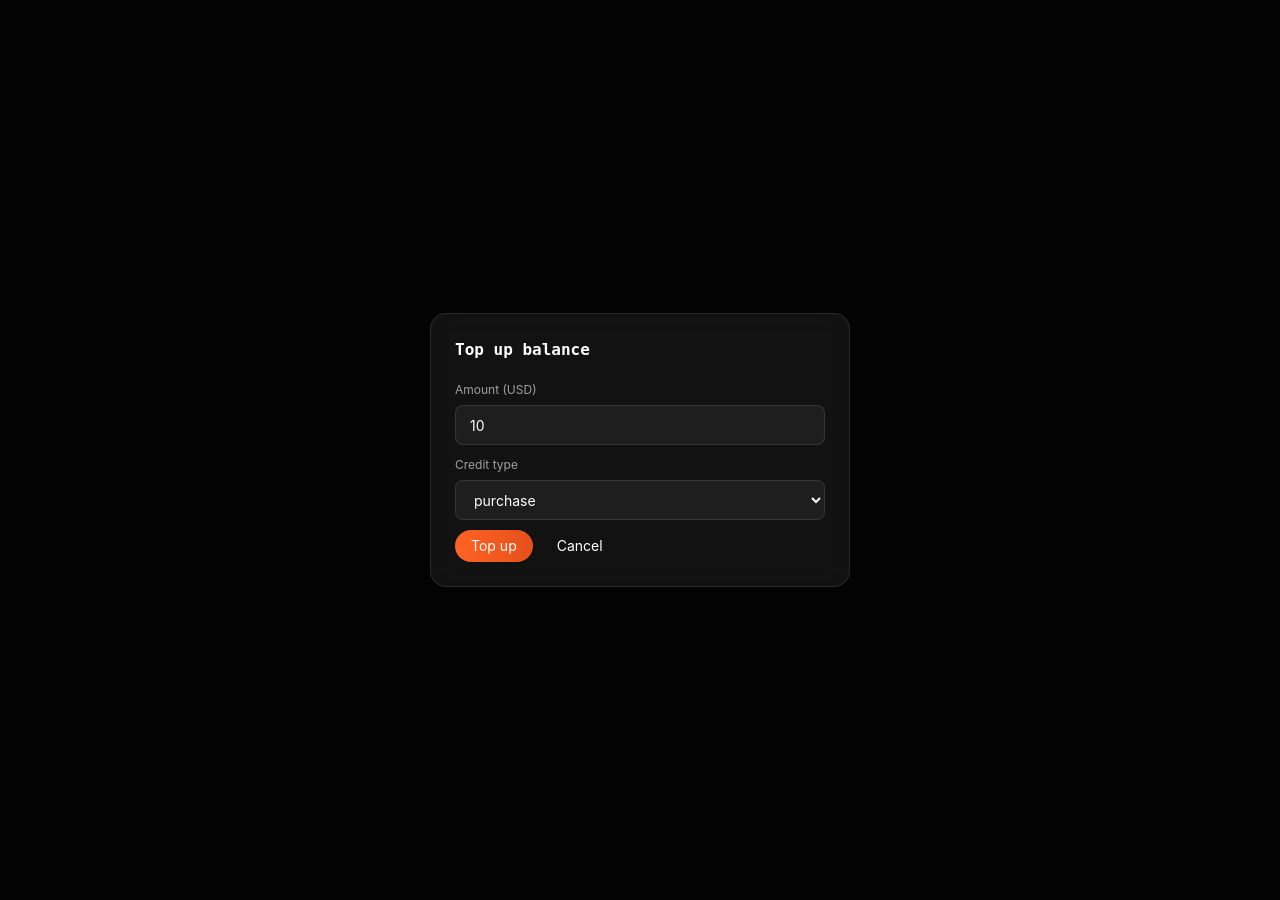
Test: TopUpDialog › renders the error envelope on a rejection
Click the button "Top up". click: (494, 546)
box: [455,530,533,562]
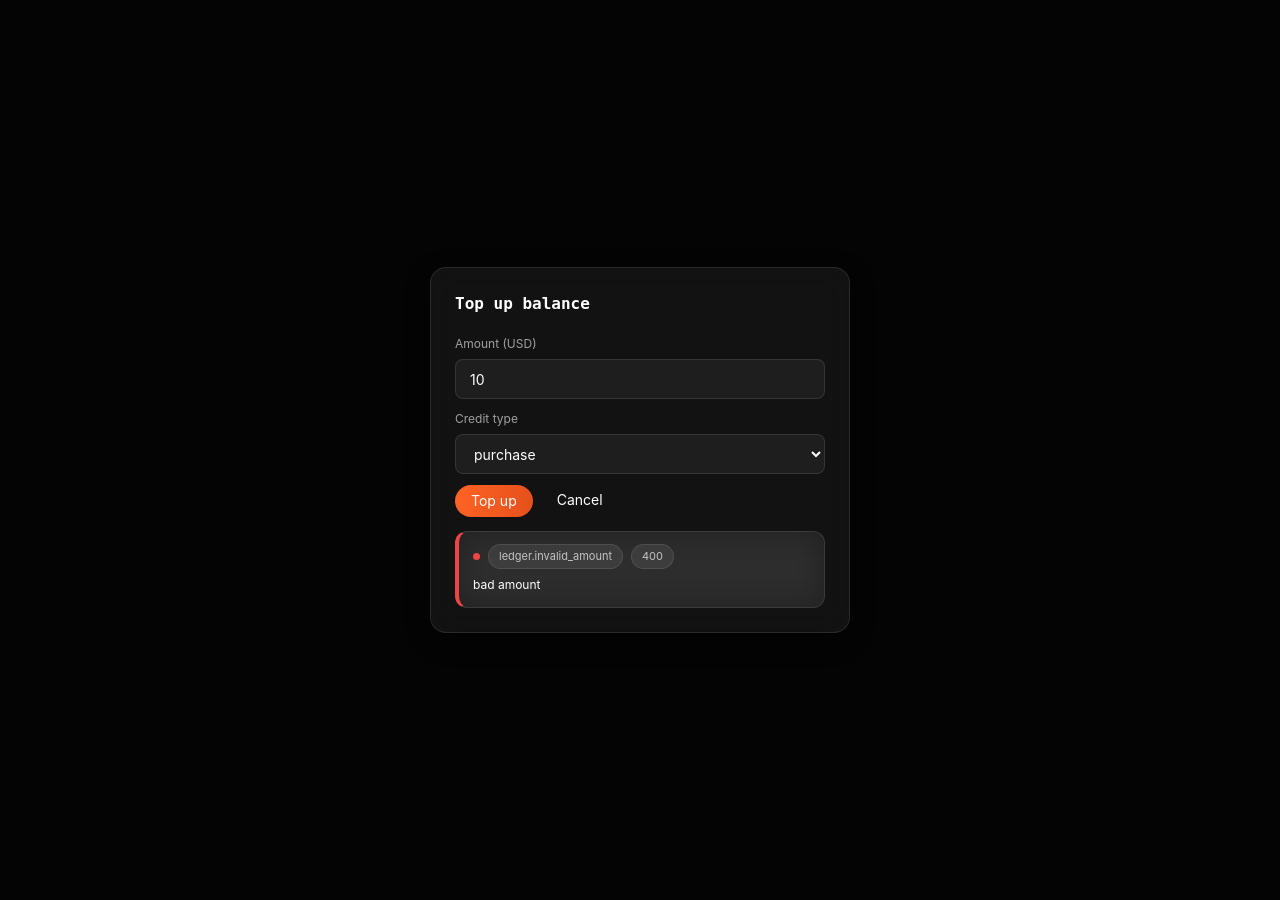
Expected: the message shows "bad amount", [473,577,540,592]
